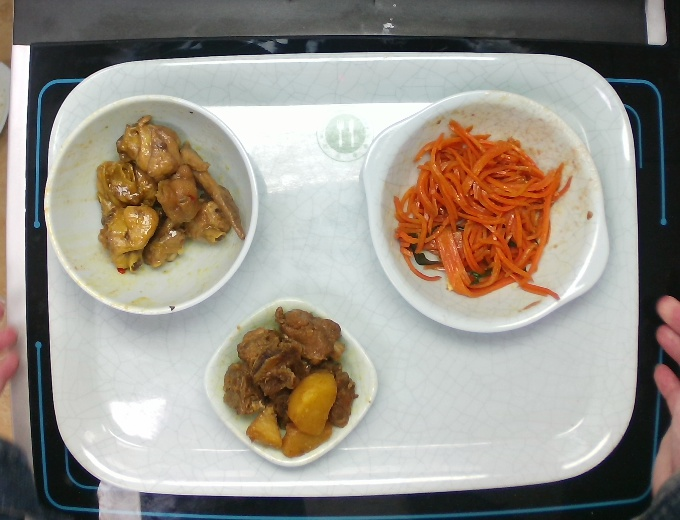JYsf-Fan_Wan: (42, 90, 268, 319)
JYsf-Shuang_Er_Wan: (355, 86, 624, 341)
JYsf-Si_Fang_Die: (192, 286, 385, 482)
